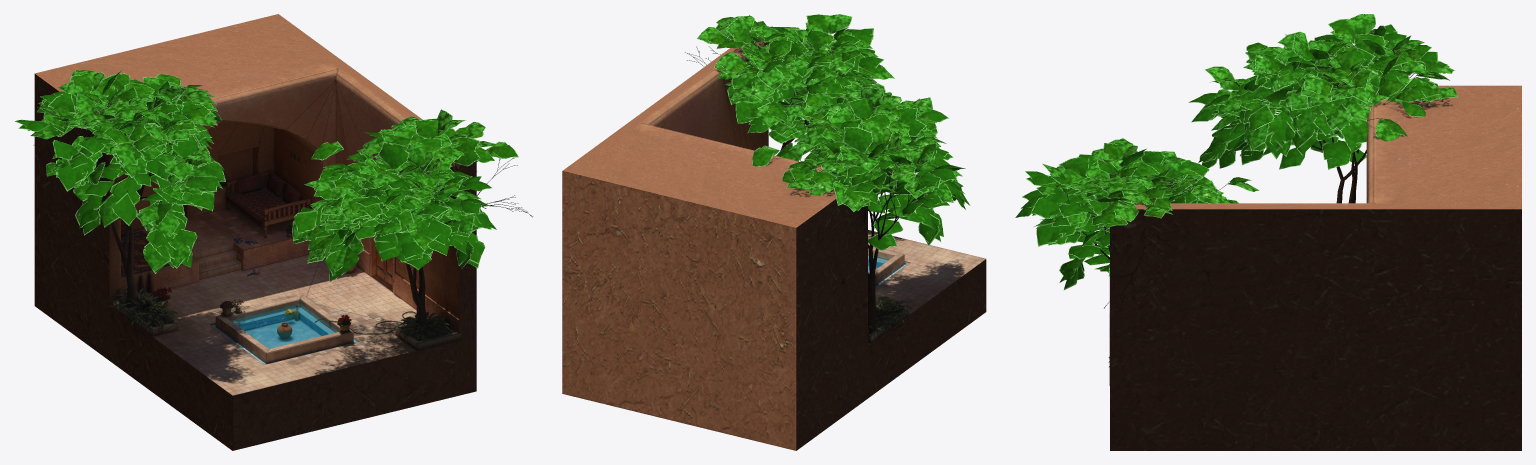
The model's file is Zona Socrates.fbx.
3 views of the same model, side by side, from view 1: azimuth 30°, elevation 25°; view 2: azimuth 150°, elevation 25°; view 3: azimuth 270°, elevation 25° (orthographic). The views are drawn at different scales.
Parts seen in each view (by area): view 1: polySurface1.003, Walls.001, object0.002_material0.002_0, object0.001_material0.001_0.001, object0.001_material0.001_0; view 2: Walls.001, polySurface1.003, object0.001_material0.001_0.001, object0.002_material0.002_0, object0.001_material0.001_0; view 3: Walls.001, polySurface1.003, object0.001_material0.001_0, object0.002_material0.002_0.
Part boxes in pixels (x1=…): polySurface1.003: x1=15, y1=69, x2=518, y2=281; Walls.001: x1=34, y1=14, x2=476, y2=450; object0.002_material0.002_0: x1=109, y1=68, x2=460, y2=332; object0.001_material0.001_0.001: x1=109, y1=225, x2=461, y2=395; object0.001_material0.001_0: x1=33, y1=95, x2=532, y2=342; Walls.001: x1=562, y1=37, x2=986, y2=450; polySurface1.003: x1=697, y1=14, x2=970, y2=250; object0.001_material0.001_0.001: x1=868, y1=230, x2=985, y2=345; object0.002_material0.002_0: x1=641, y1=37, x2=820, y2=167; object0.001_material0.001_0: x1=685, y1=31, x2=935, y2=336; Walls.001: x1=1110, y1=85, x2=1521, y2=450; polySurface1.003: x1=1015, y1=14, x2=1457, y2=290; object0.001_material0.001_0: x1=1053, y1=51, x2=1428, y2=366; object0.002_material0.002_0: x1=1110, y1=106, x2=1375, y2=203.
Bounding box in the file's own units: 16929 × 12305 × 18601.
